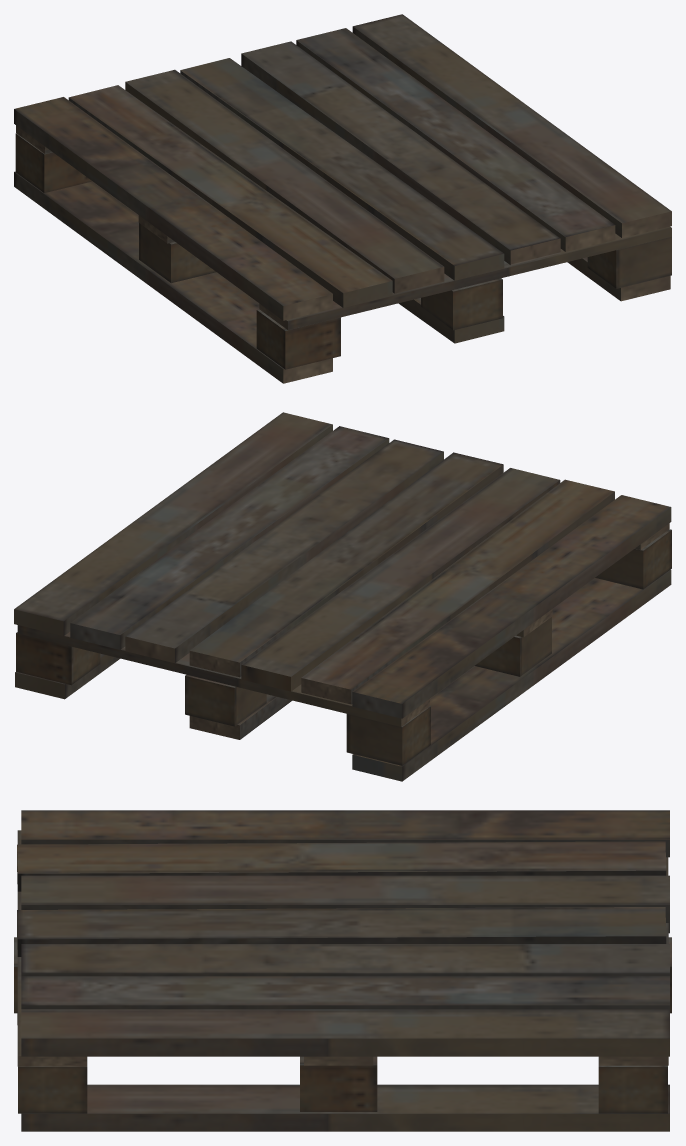
File: bz_brk_pallet_dmg01.fbx
3 renders of one model, top to bottom at view 1: azimuth 30°, elevation 25°; view 2: azimuth 150°, elevation 25°; view 3: azimuth 270°, elevation 25°, orthographic. The views are drawn at different scales.
Parts seen in each view (by area): view 1: bz__pallet_dmg09, bz__pallet_dmg05, bz__pallet_dmg03, bz__pallet_dmg11, bz__pallet_dmg01, bz__pallet_dmg07, bz__pallet_dmg13, bz__pallet_dmg04, bz__pallet_dmg12, bz__pallet_dmg10; view 2: bz__pallet_dmg09, bz__pallet_dmg03, bz__pallet_dmg11, bz__pallet_dmg05, bz__pallet_dmg07, bz__pallet_dmg01, bz__pallet_dmg13, bz__pallet_dmg04, bz__pallet_dmg10, bz__pallet_dmg12; view 3: bz__pallet_dmg09, bz__pallet_dmg12, bz__pallet_dmg05, bz__pallet_dmg13, bz__pallet_dmg07, bz__pallet_dmg01, bz__pallet_dmg03, bz__pallet_dmg08, bz__pallet_dmg04.
Boxes of the visible parts, bbox=[...] form: bz__pallet_dmg09: bbox=[16, 14, 671, 265]; bz__pallet_dmg05: bbox=[180, 58, 671, 330]; bz__pallet_dmg03: bbox=[14, 97, 332, 320]; bz__pallet_dmg11: bbox=[14, 133, 340, 383]; bz__pallet_dmg01: bbox=[68, 85, 392, 307]; bz__pallet_dmg07: bbox=[125, 69, 444, 293]; bz__pallet_dmg13: bbox=[296, 28, 615, 251]; bz__pallet_dmg04: bbox=[398, 278, 504, 343]; bz__pallet_dmg12: bbox=[567, 236, 671, 301]; bz__pallet_dmg10: bbox=[139, 223, 216, 283]; bz__pallet_dmg09: bbox=[14, 412, 443, 726]; bz__pallet_dmg03: bbox=[352, 495, 671, 718]; bz__pallet_dmg11: bbox=[346, 529, 671, 781]; bz__pallet_dmg05: bbox=[189, 452, 669, 677]; bz__pallet_dmg07: bbox=[241, 468, 560, 691]; bz__pallet_dmg01: bbox=[301, 479, 614, 704]; bz__pallet_dmg13: bbox=[70, 426, 389, 649]; bz__pallet_dmg04: bbox=[185, 674, 292, 739]; bz__pallet_dmg10: bbox=[475, 617, 551, 676]; bz__pallet_dmg12: bbox=[15, 653, 120, 699]; bz__pallet_dmg09: bbox=[21, 857, 669, 1113]; bz__pallet_dmg12: bbox=[18, 1057, 669, 1131]; bz__pallet_dmg05: bbox=[17, 830, 666, 1066]; bz__pallet_dmg13: bbox=[21, 976, 669, 1009]; bz__pallet_dmg07: bbox=[21, 875, 669, 922]; bz__pallet_dmg01: bbox=[17, 841, 666, 891]; bz__pallet_dmg03: bbox=[21, 810, 669, 857]; bz__pallet_dmg08: bbox=[300, 1056, 377, 1111]; bz__pallet_dmg04: bbox=[14, 937, 671, 1024].
Size of the model in its own units: 1.07 by 0.2049 by 1.31.
